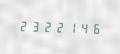four: (77, 20, 88, 35)
one: (65, 20, 76, 34)
six: (89, 21, 100, 35)
three: (29, 18, 40, 33)
two: (53, 19, 64, 34), (17, 18, 28, 32), (41, 19, 52, 33)
